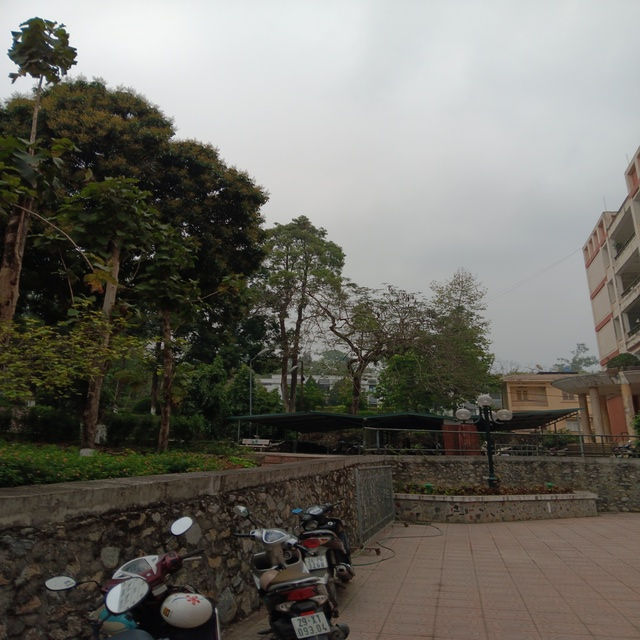cotden: (449, 391, 521, 494)
